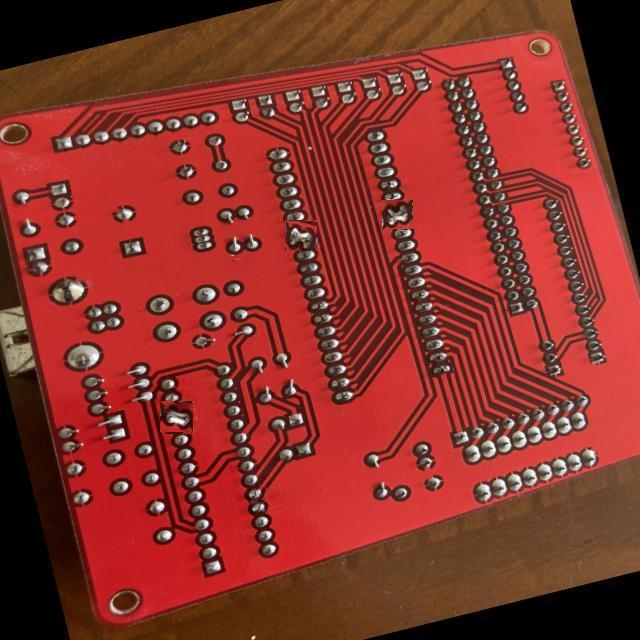damged: (161, 402, 193, 433), (286, 220, 317, 251), (383, 199, 413, 230)
